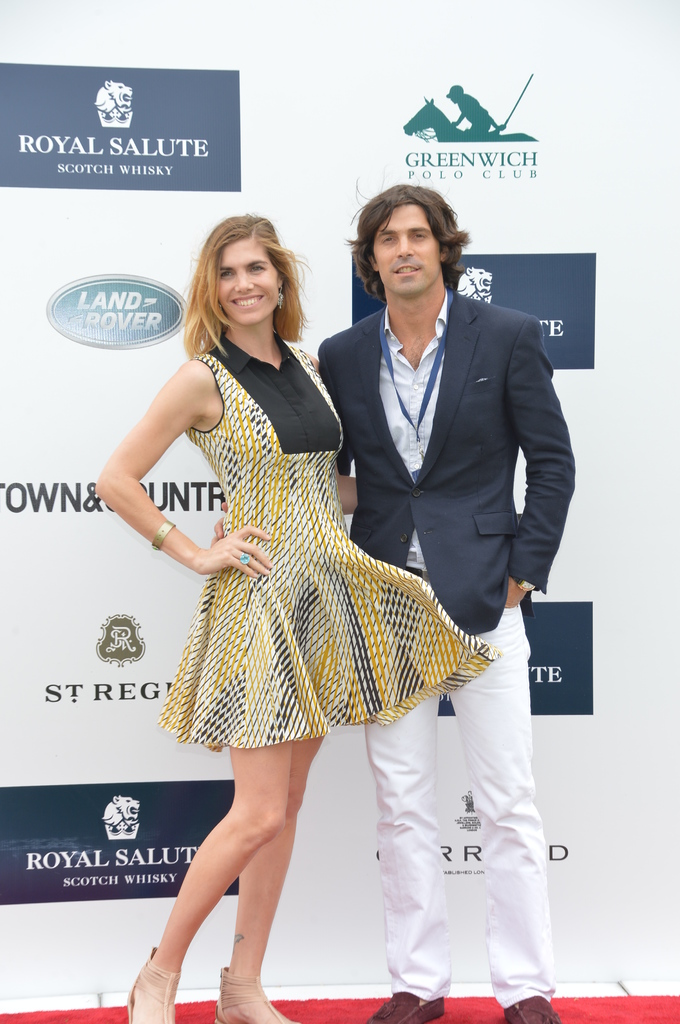Footwear: (124, 950, 180, 1021), (492, 989, 574, 1023), (363, 991, 445, 1023)
